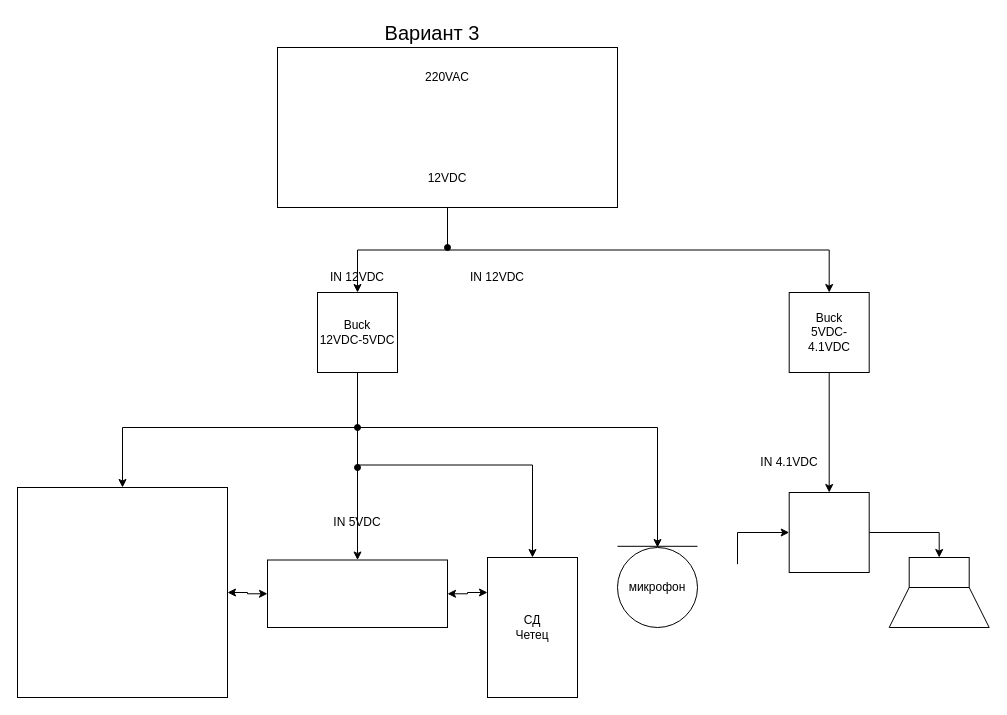
Image size: 1007x715. Some labels were removed from this diagram. Here are the shapes that lost their labels. From the top down, the box of each, then its label:
(788, 492, 869, 572): sim800l
(16, 486, 228, 698): Клавиатура
(266, 559, 448, 628): АРДУИНО НАНО
